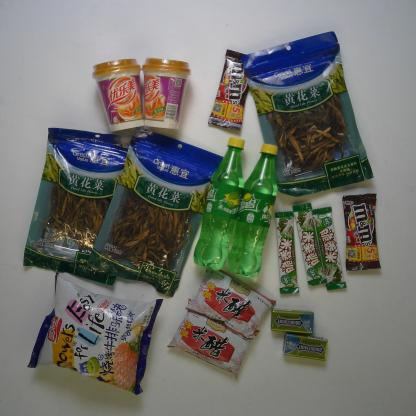Chocolate: (207, 48, 255, 132), (342, 192, 383, 272), (310, 206, 348, 290), (292, 200, 326, 286), (273, 208, 300, 295)
Dried Food: (242, 31, 374, 198), (92, 132, 224, 298), (22, 125, 141, 287)
Drink: (226, 144, 280, 278), (192, 137, 246, 271)
Gum: (269, 308, 318, 336), (281, 334, 328, 362)
Instant Drink: (92, 56, 144, 134), (142, 56, 190, 127)
Puffed Food: (27, 272, 163, 398)
Seasoner: (185, 268, 275, 340), (166, 306, 251, 378)
